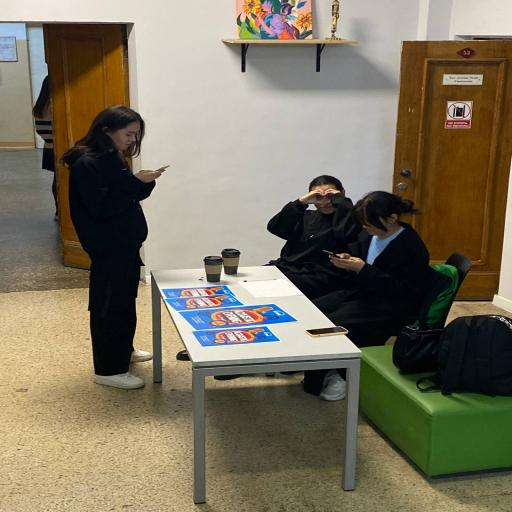child: (393, 40, 512, 300)
crosswalk: (62, 105, 163, 389), (304, 192, 432, 400)
curb: (306, 326, 348, 337)
phone: (151, 266, 361, 503)
